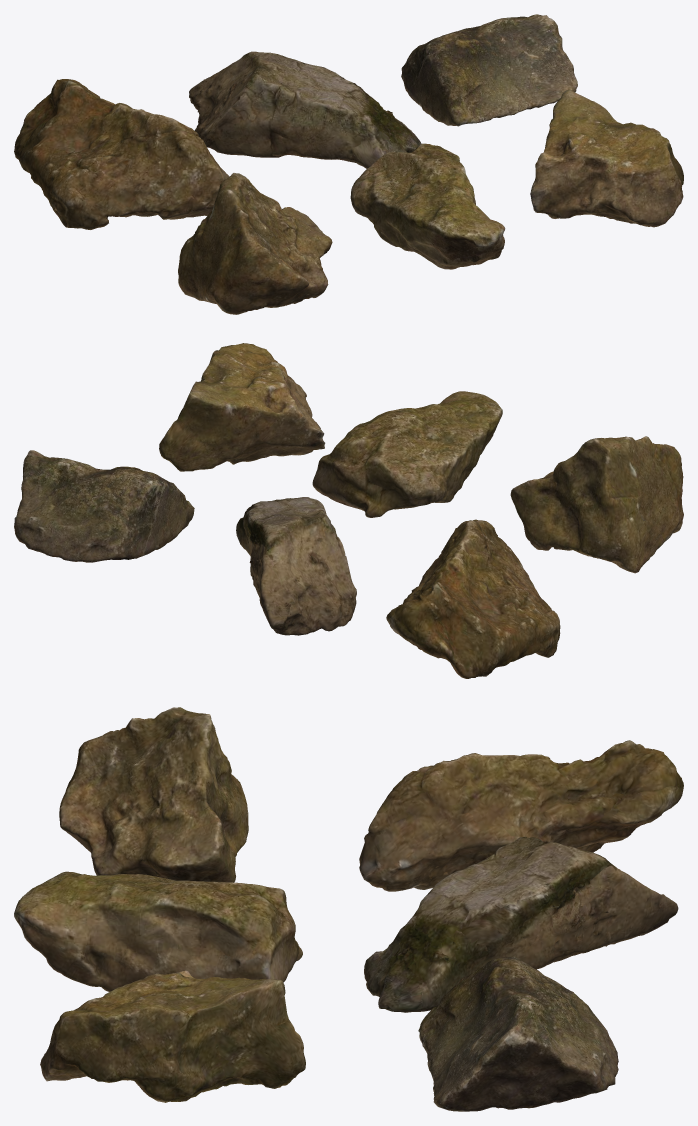
The model's file is rock_moss_set_01.glb.
3 renders of one model, top to bottom at view 1: azimuth 30°, elevation 25°; view 2: azimuth 150°, elevation 25°; view 3: azimuth 270°, elevation 25°, orthographic. The views are drawn at different scales.
Visible parts, largest first — view 1: rock_moss_set_01_rock01, rock_moss_set_01_rock02, rock_moss_set_01_rock06, rock_moss_set_01_rock04, rock_moss_set_01_rock03, rock_moss_set_01_rock05; view 2: rock_moss_set_01_rock04, rock_moss_set_01_rock01, rock_moss_set_01_rock05, rock_moss_set_01_rock03, rock_moss_set_01_rock06, rock_moss_set_01_rock02; view 3: rock_moss_set_01_rock01, rock_moss_set_01_rock02, rock_moss_set_01_rock05, rock_moss_set_01_rock04, rock_moss_set_01_rock06, rock_moss_set_01_rock03.
Part boxes in pixels (box(x1,y1,x2,y2)): rock_moss_set_01_rock01: box(14, 79, 229, 229); rock_moss_set_01_rock02: box(189, 51, 421, 168); rock_moss_set_01_rock06: box(530, 89, 683, 227); rock_moss_set_01_rock04: box(178, 173, 332, 314); rock_moss_set_01_rock03: box(401, 14, 577, 126); rock_moss_set_01_rock05: box(350, 143, 505, 269); rock_moss_set_01_rock04: box(510, 436, 683, 573); rock_moss_set_01_rock01: box(386, 519, 560, 678); rock_moss_set_01_rock05: box(312, 391, 502, 517); rock_moss_set_01_rock03: box(14, 450, 194, 562); rock_moss_set_01_rock06: box(159, 343, 325, 471); rock_moss_set_01_rock02: box(236, 497, 356, 635); rock_moss_set_01_rock01: box(359, 740, 683, 891); rock_moss_set_01_rock02: box(364, 836, 678, 1012); rock_moss_set_01_rock05: box(14, 871, 302, 991); rock_moss_set_01_rock04: box(59, 707, 248, 882); rock_moss_set_01_rock06: box(40, 970, 305, 1102); rock_moss_set_01_rock03: box(418, 956, 618, 1111).
Bounding box in the file's own units: 8 × 1.77 × 6.95.
Materials: 1 (1 with a texture image).
